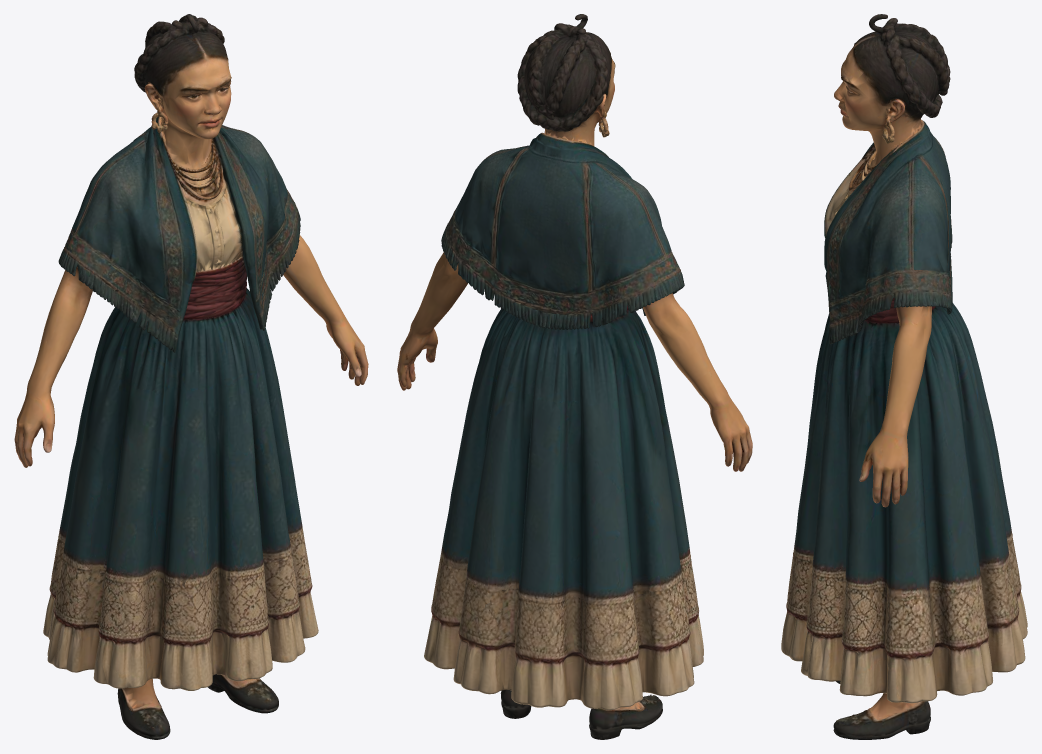
File: frida.glb
The picture shows the model from 3 angles, left to right: view 1: azimuth 30°, elevation 25°; view 2: azimuth 150°, elevation 25°; view 3: azimuth 270°, elevation 25°; orthographic projection.
Parts seen in each view (by area): view 1: tripo_node_80277f32-e7f9-41fa-ac3c-f8239185bb29; view 2: tripo_node_80277f32-e7f9-41fa-ac3c-f8239185bb29; view 3: tripo_node_80277f32-e7f9-41fa-ac3c-f8239185bb29.
Part boxes in pixels (bbox=[...]): tripo_node_80277f32-e7f9-41fa-ac3c-f8239185bb29: bbox=[14, 14, 368, 739]; tripo_node_80277f32-e7f9-41fa-ac3c-f8239185bb29: bbox=[397, 14, 752, 739]; tripo_node_80277f32-e7f9-41fa-ac3c-f8239185bb29: bbox=[781, 14, 1027, 739].
Size of the model in its own units: 0.5107 by 0.979 by 0.3165.
Materials: 1 (1 with a texture image).
